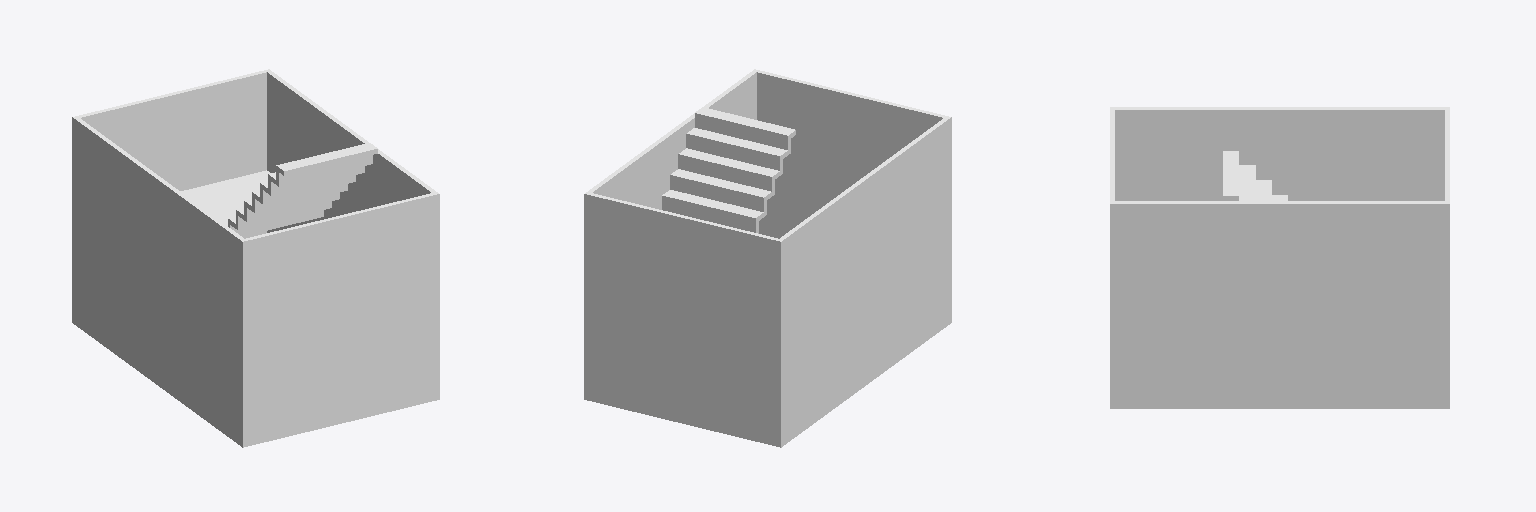
File: wall_stairs.obj
3 renders of one model, left to right at view 1: azimuth 30°, elevation 25°; view 2: azimuth 150°, elevation 25°; view 3: azimuth 270°, elevation 25°, orthographic.
Visible parts, largest first — view 1: wall_stairs; view 2: wall_stairs; view 3: wall_stairs.
Part boxes in pixels (bbox=[...]): wall_stairs: bbox=[72, 69, 439, 447]; wall_stairs: bbox=[584, 69, 951, 447]; wall_stairs: bbox=[1110, 107, 1449, 408].
Size of the model in its own units: 42 by 43 by 63.